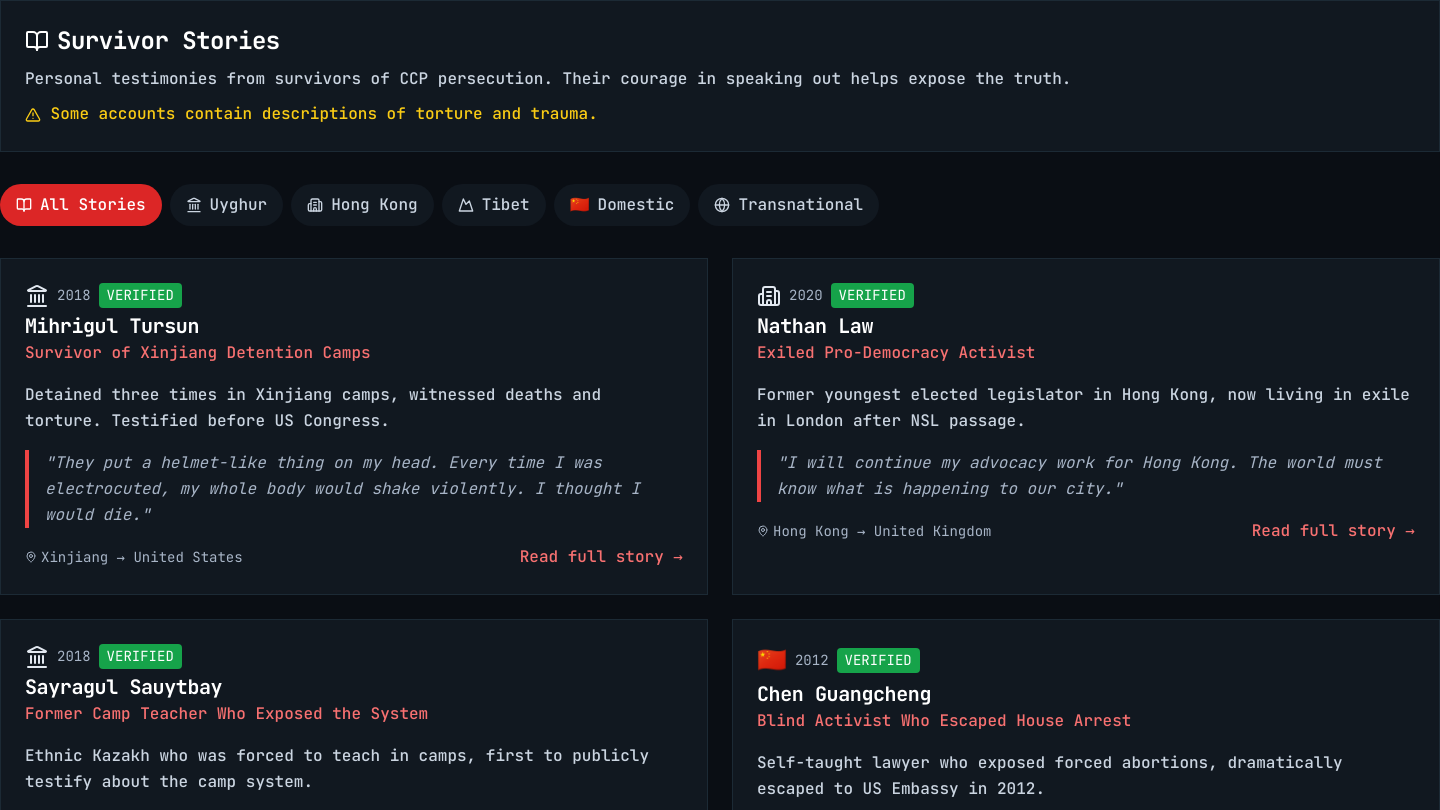
Test: VictimStories › filters stories by Tibet category
This screenshot has width=1440, height=810.
Click the button "Tibet".
click(494, 205)  # box [442,184,546,226]
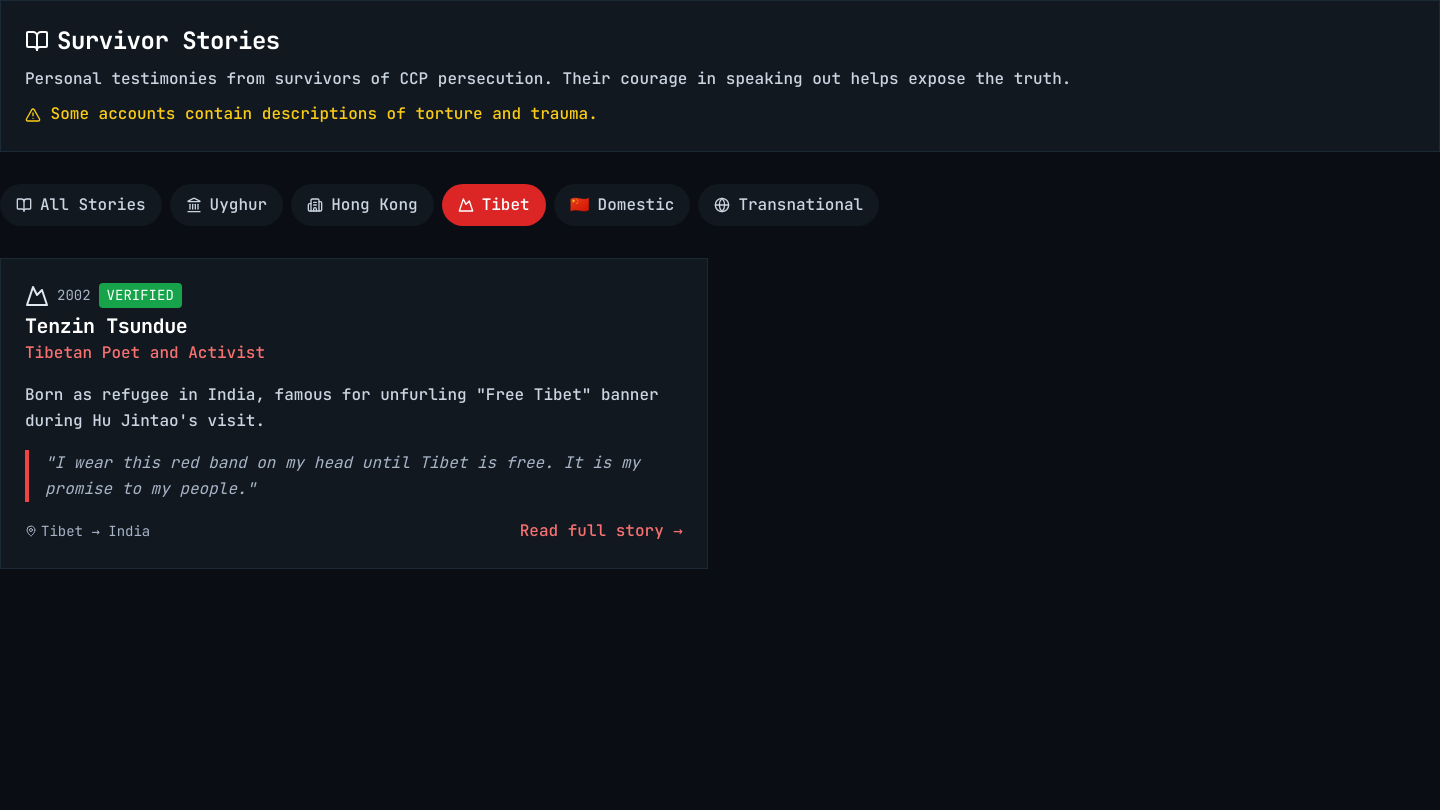
Expected: the heading "Tenzin Tsundue" is shown, [25,313,187,339]
Expected: the heading "Nathan Law" is gone
